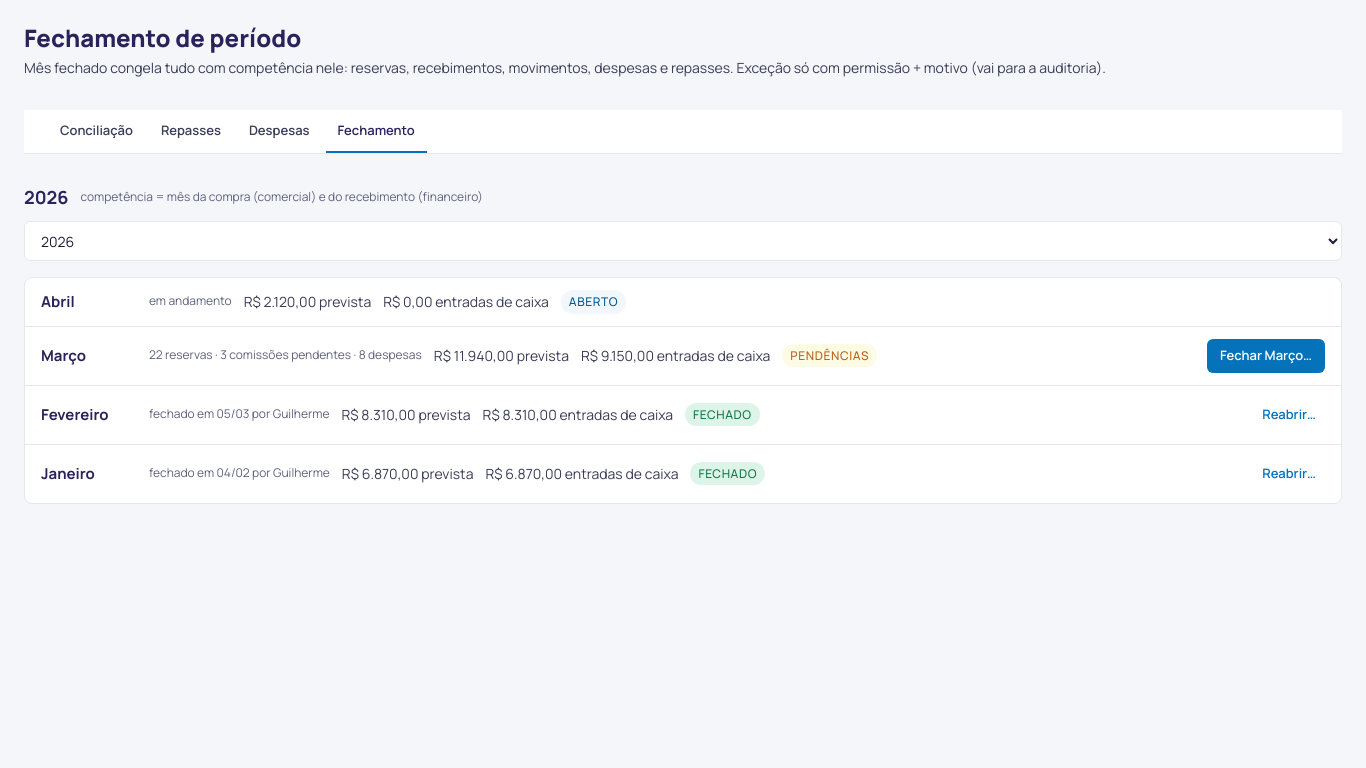
Test: mês fechado mostra quem fechou e quando, e abre o modal de reabertura
The image size is (1366, 768).
Expected: the text "Fevereiro" is shown, [41,404,109,425]
Click the button "Reabrir…" in the row of "fechado em 05/03 por Guilherme" at (1289, 415), box [1253,398,1325,432]
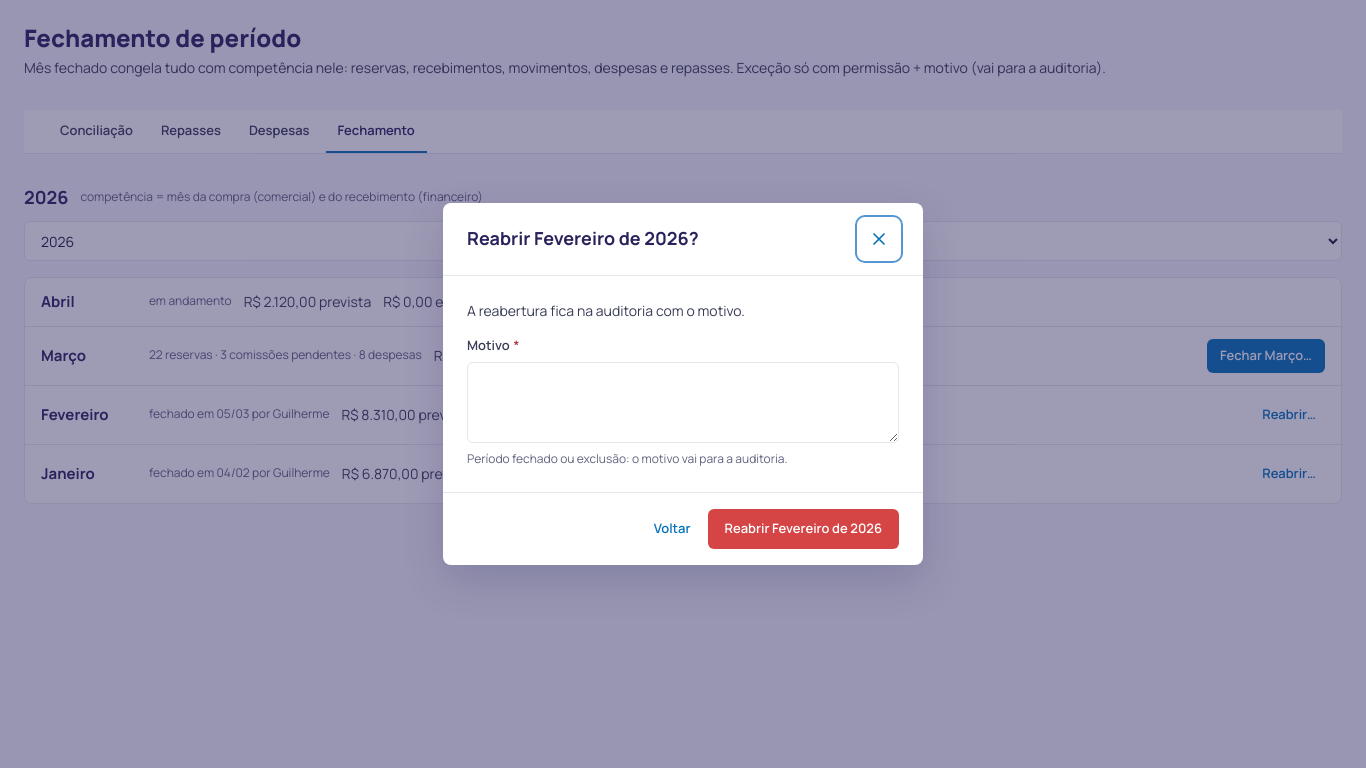
Expected: the heading "Reabrir Fevereiro de 2026?" is shown, [467,228,699,251]
